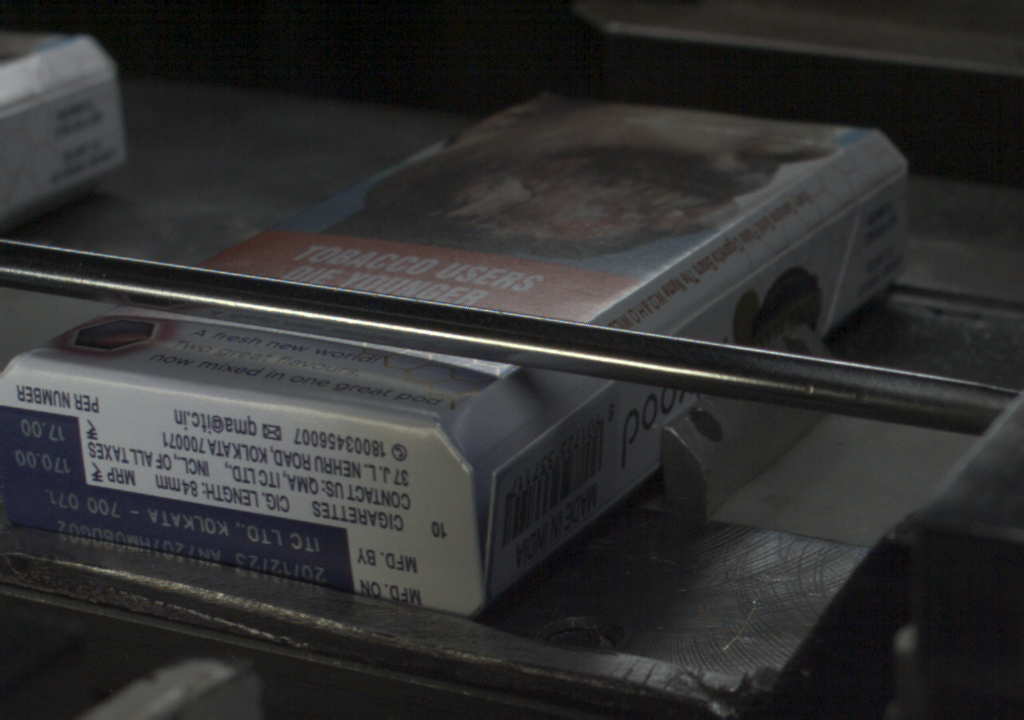g_bottom: (1, 361, 488, 618)
g_label: (1, 486, 357, 596)
g_lmiter: (682, 260, 775, 329), (777, 204, 852, 259), (549, 386, 609, 432)
g_miter: (867, 166, 913, 199)
ng_lmiter: (475, 434, 525, 552)
price: (1, 411, 86, 485)
